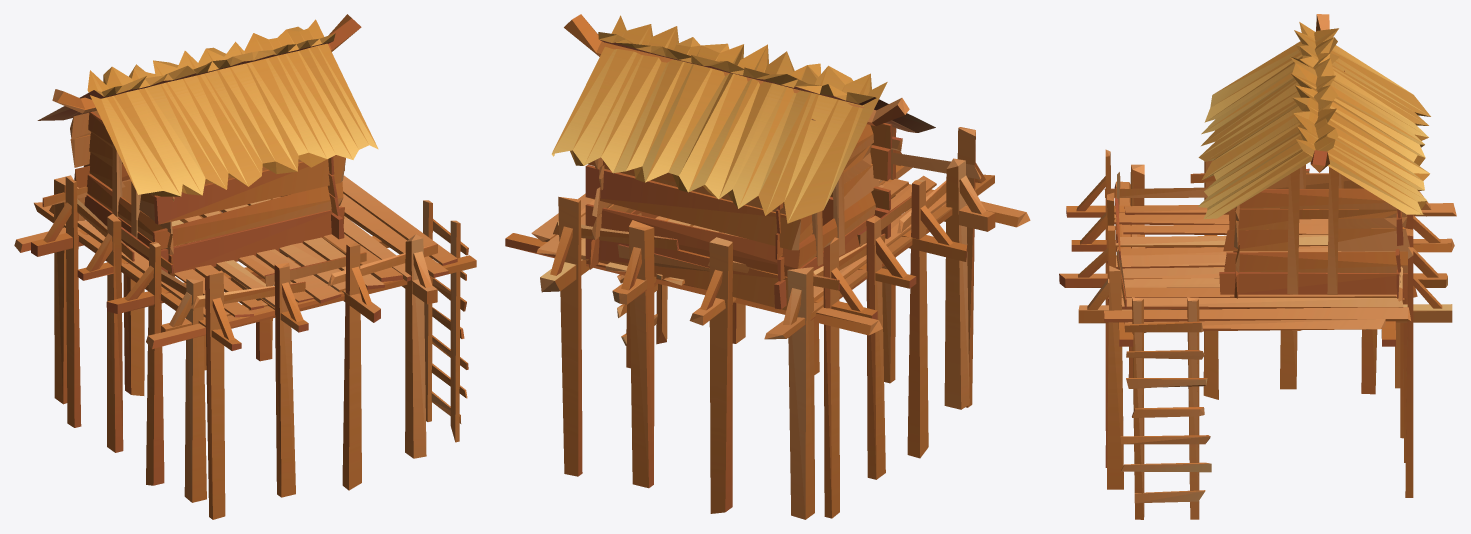
File: GL-Manmade-02-LOD2.fbx
3 renders of one model, left to right at view 1: azimuth 30°, elevation 25°; view 2: azimuth 150°, elevation 25°; view 3: azimuth 270°, elevation 25°, orthographic. The views are drawn at different scales.
Parts seen in each view (by area): view 1: GL_Manmade_02; view 2: GL_Manmade_02; view 3: GL_Manmade_02.
Part boxes in pixels (x1,y1,x2,y2): GL_Manmade_02: (14,14,476,519); GL_Manmade_02: (505,14,1030,519); GL_Manmade_02: (1059,14,1456,519).
Size of the model in its own units: 2.88 by 3.13 by 3.04.
